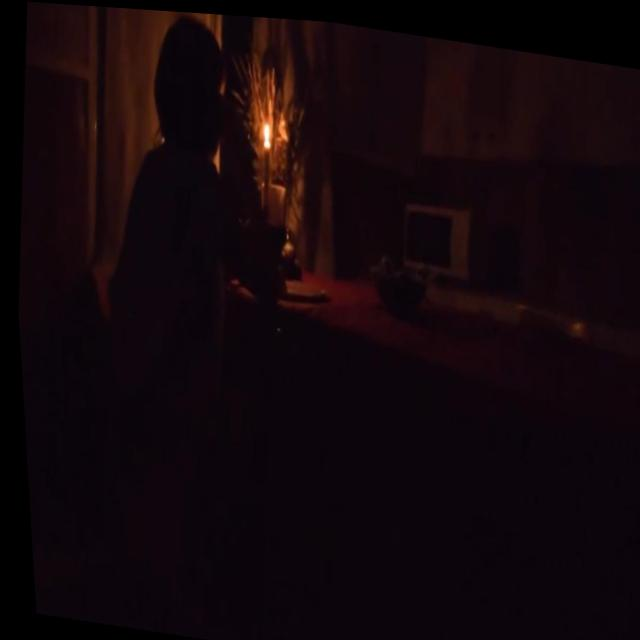fire: (259, 116, 271, 141)
